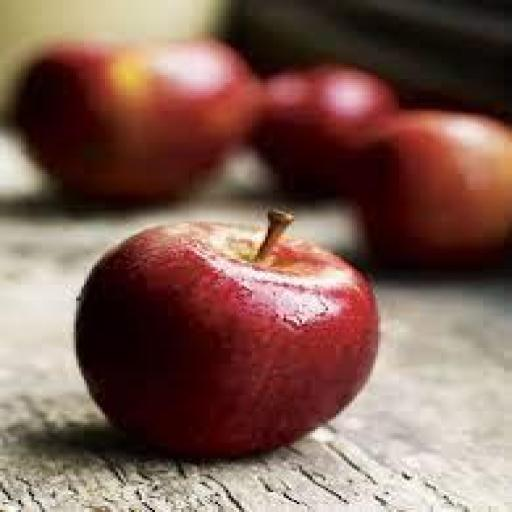apple: (77, 212, 378, 456)
